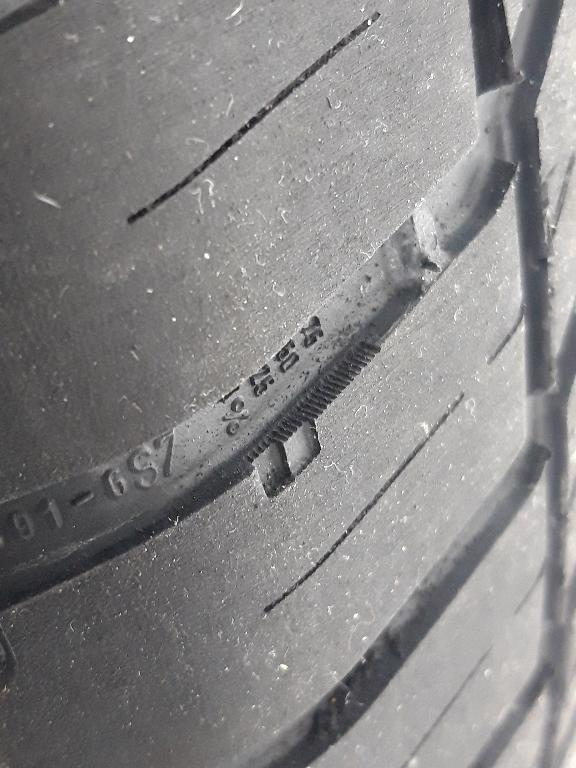temoin:25: (222, 396, 337, 513)
